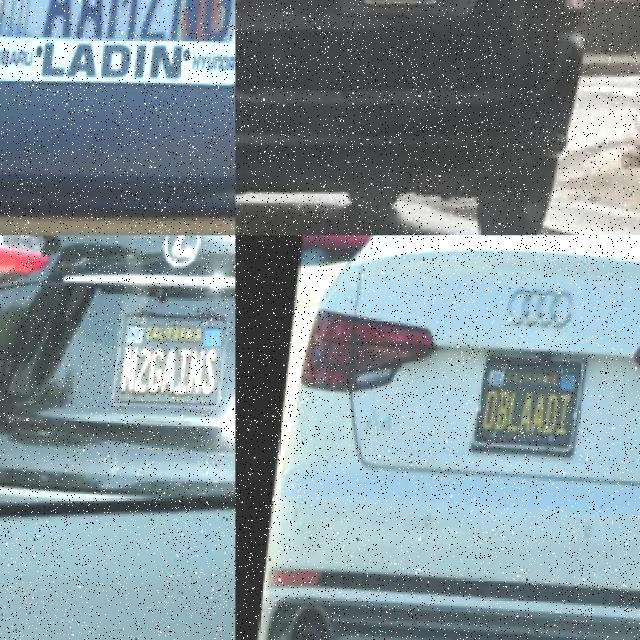licenseplate: (0, 0, 235, 146), (112, 304, 231, 425), (473, 350, 584, 468), (362, 0, 436, 12)
